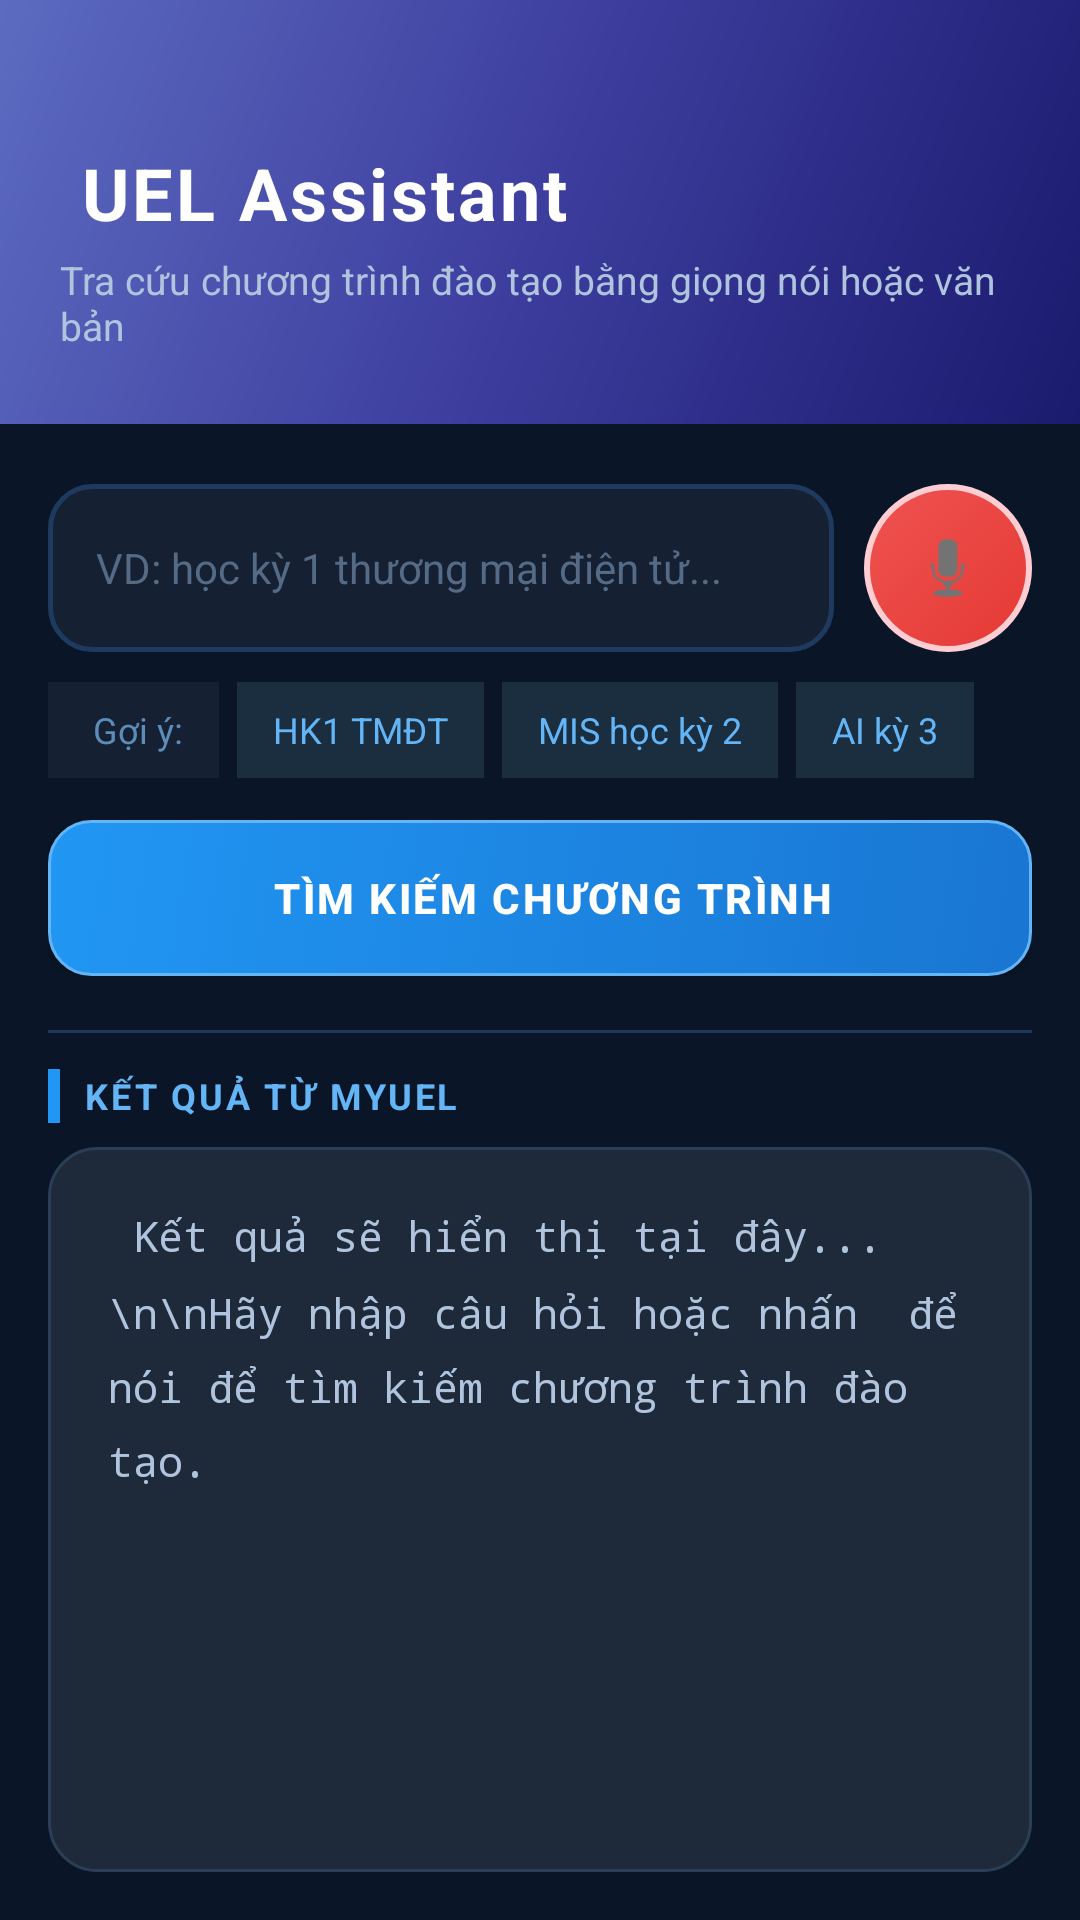

Screen size 1080w x 1920h. Icon name, then its center in pixels as (x,y):
Nhập bằng giọng nói: (948,568)
